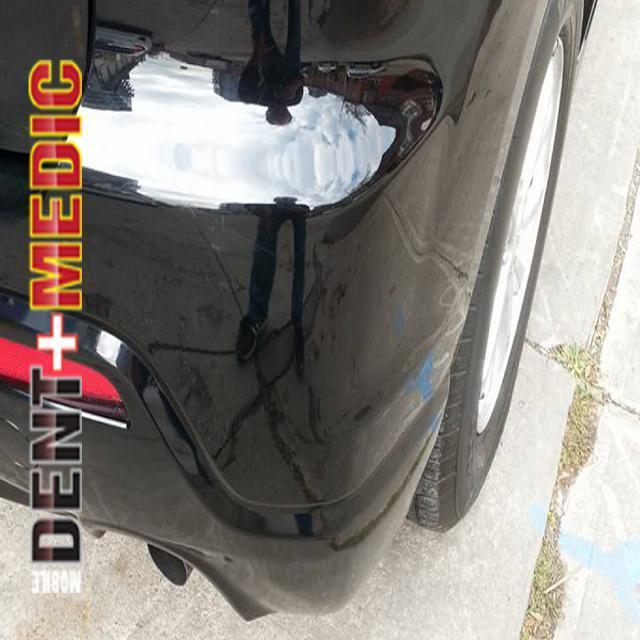rear-bumper-dent: (145, 140, 507, 614)
